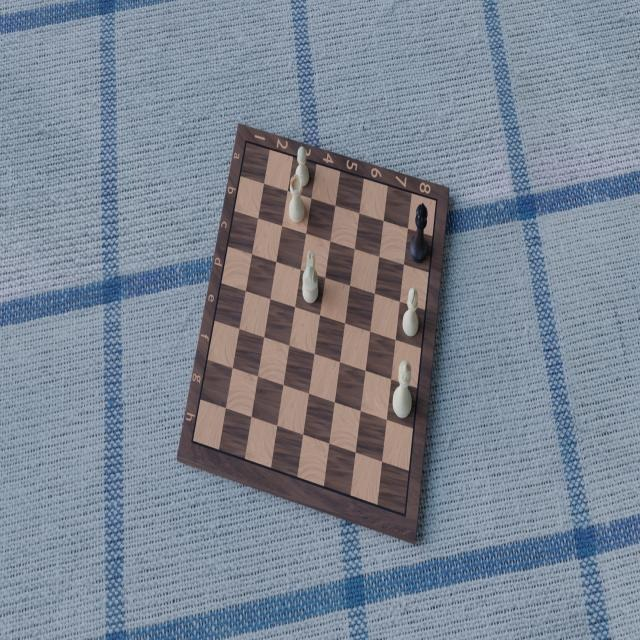black-king: (407, 202, 428, 264)
white-bishop: (401, 286, 419, 338)
white-king: (391, 358, 413, 419)
white-knight: (301, 251, 319, 305)
white-pawn: (294, 145, 310, 187)
white-rook: (288, 174, 305, 224)
